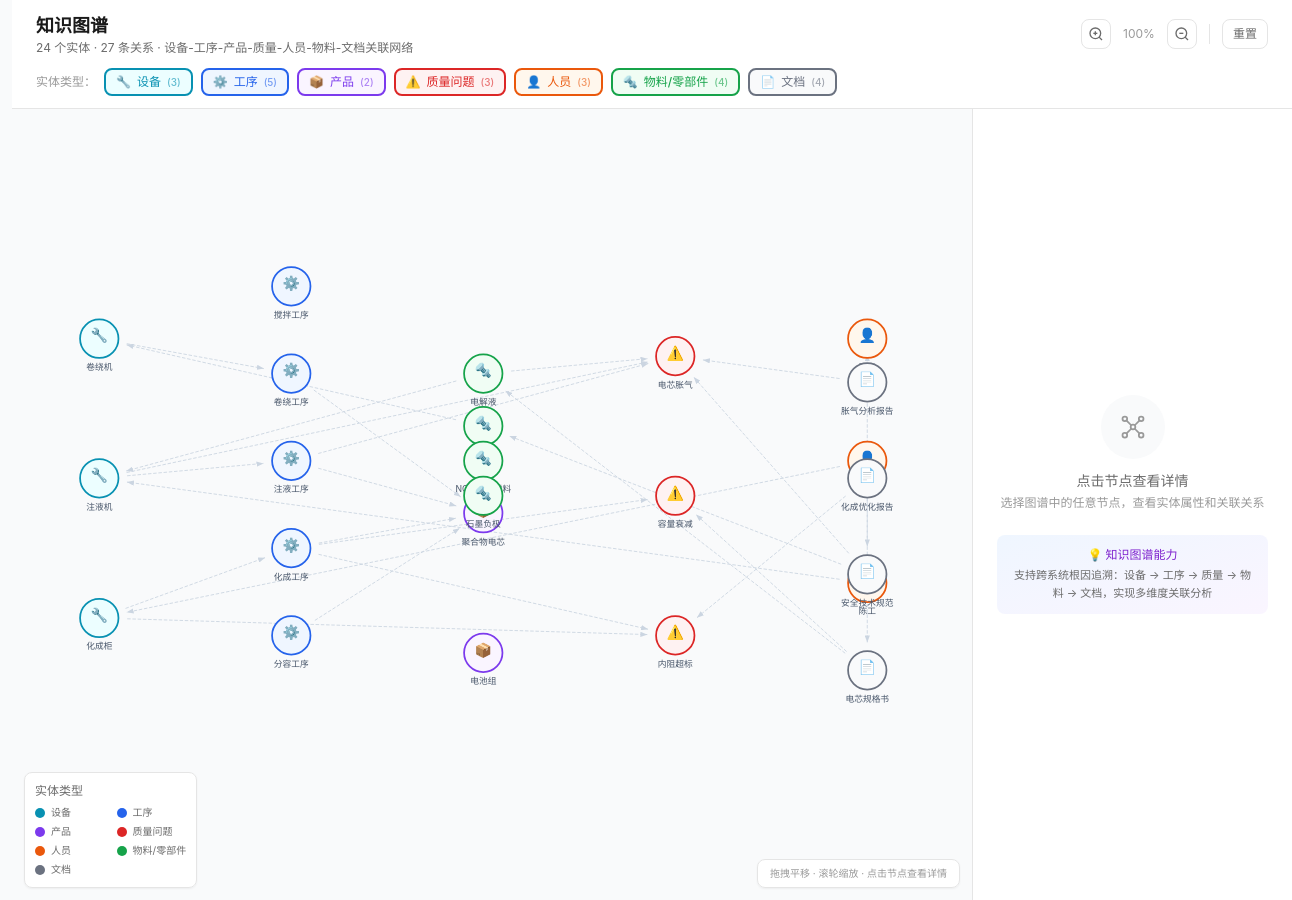
it: KnowledgeGraph › 点击类型过滤器切换后显示清除筛选
Step 1. Click the button "🔧 设备 (3)" → (148, 82), box x1=104 y1=68 x2=193 y2=96
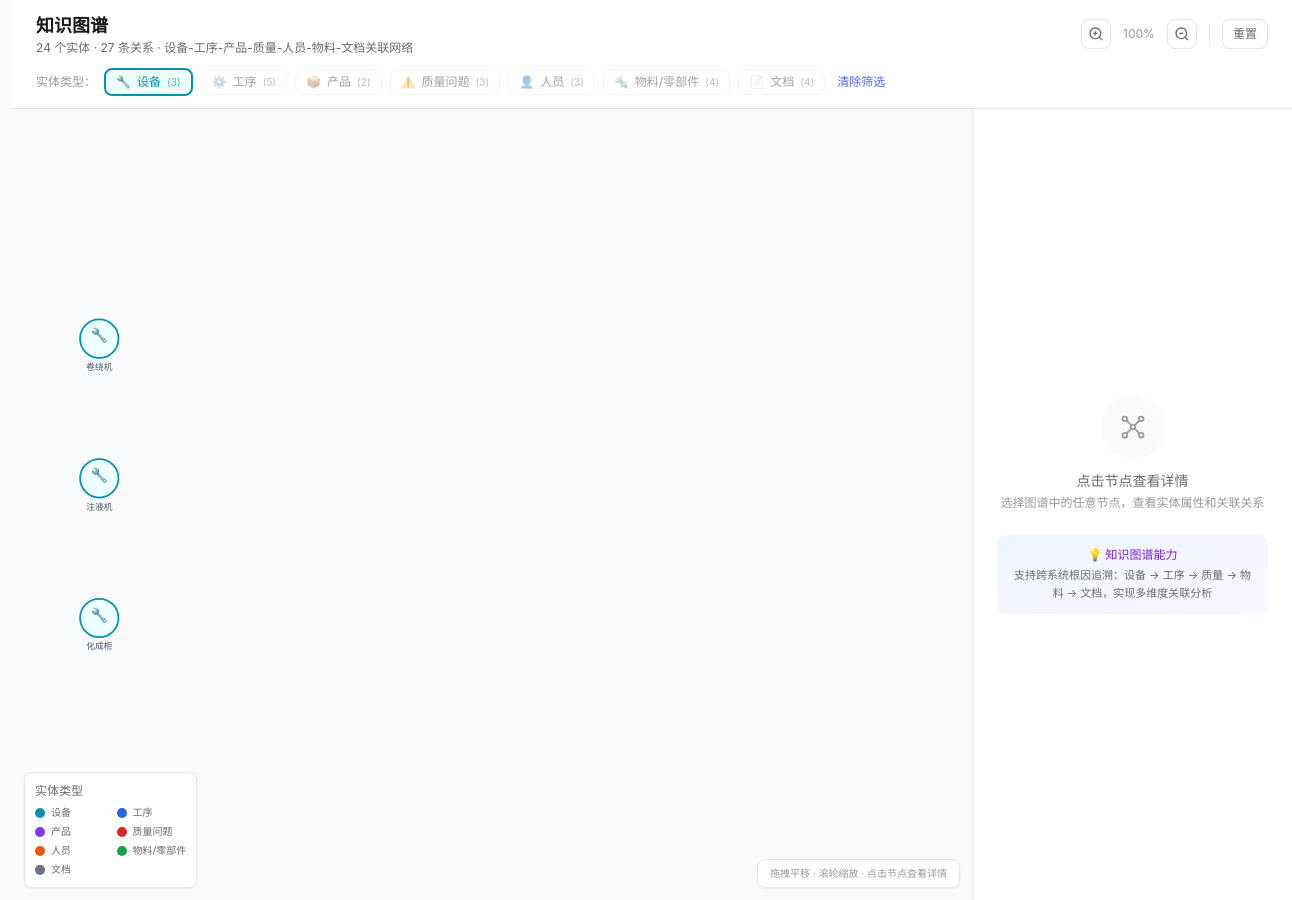
Result: the button "清除筛选" is shown at x1=837 y1=74 x2=885 y2=90
